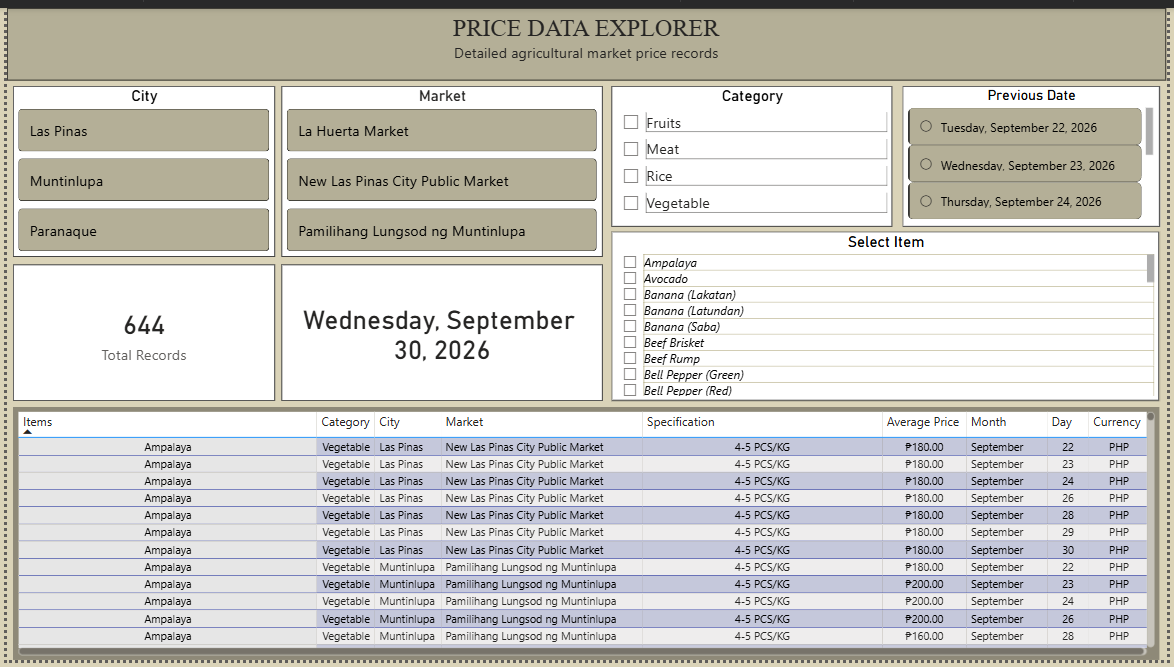

The dashboard page shown, as its layout file describes it:
{"tool":"powerbi","page":{"name":"PRICE DETAILS / DATA EXPLORER","canvas":[1280,720],"ordinal":2},"visuals":[{"type":"textbox","box":[0,0,1280,80],"z":0},{"type":"slicer","title":"Category","fields":{"Values":["agriproject_db vw_price_analysis.category_name"]},"box":[667.4,86.1,310.1,155.1],"z":1000},{"type":"advancedSlicerVisual","title":"City","fields":{"Values":["agriproject_db vw_price_analysis.city_name"]},"box":[6.3,86.1,289.3,188.6],"z":2000},{"type":"advancedSlicerVisual","title":"Market","fields":{"Values":["agriproject_db vw_price_analysis.market_name"]},"box":[303.8,86.1,354.6,188.6],"z":3000},{"type":"slicer","title":"Select Item","fields":{"Values":["agriproject_db vw_price_analysis.item_name"]},"box":[667.4,247.6,604.8,186.8],"z":4000},{"type":"listSlicer","title":"Previous Date ","fields":{"Values":["agriproject_db vw_price_analysis.price_date"]},"box":[988.4,86.1,283.8,155.1],"z":5000},{"type":"tableEx","fields":{"Values":["agriproject_db vw_price_analysis.item_name","agriproject_db vw_price_analysis.category_name","agriproject_db vw_price_analysis.city_name","agriproject_db vw_price_analysis.market_name","agriproject_db vw_price_analysis.specification","agriproject_db vw_price_analysis.Average Price","agriproject_db vw_price_analysis.price_date.Variation.Date Hierarchy.Month","agriproject_db vw_price_analysis.price_date.Variation.Date Hierarchy.Day","agriproject_db vw_price_analysis.currency"]},"box":[6.3,440.7,1265.9,279.3],"z":6000},{"type":"card","fields":{"Values":["agriproject_db vw_price_analysis.Total price records"]},"box":[6.3,283.8,289.3,150.5],"z":7000},{"type":"card","fields":{"Values":["agriproject_db vw_price_analysis.Latest Date"]},"box":[303.8,283.8,354.6,150.5],"z":8000}]}

Visuals, with their boxes in screenshot pixels (x1, y1, x2, y2), scaled from the page's 1280x720 canvas onto the 1174x667 screenshot:
textbox: rect(0, 0, 1173, 74)
"Category" slicer: rect(612, 80, 897, 223)
"City" advancedSlicerVisual: rect(6, 80, 271, 254)
"Market" advancedSlicerVisual: rect(279, 80, 604, 254)
"Select Item" slicer: rect(612, 229, 1167, 402)
"Previous Date " listSlicer: rect(907, 80, 1167, 223)
tableEx - agriproject_db vw_price_analysis.item_name x agriproject_db vw_price_analysis.category_name: rect(6, 408, 1167, 666)
card - agriproject_db vw_price_analysis.Total price records: rect(6, 263, 271, 402)
card - agriproject_db vw_price_analysis.Latest Date: rect(279, 263, 604, 402)
